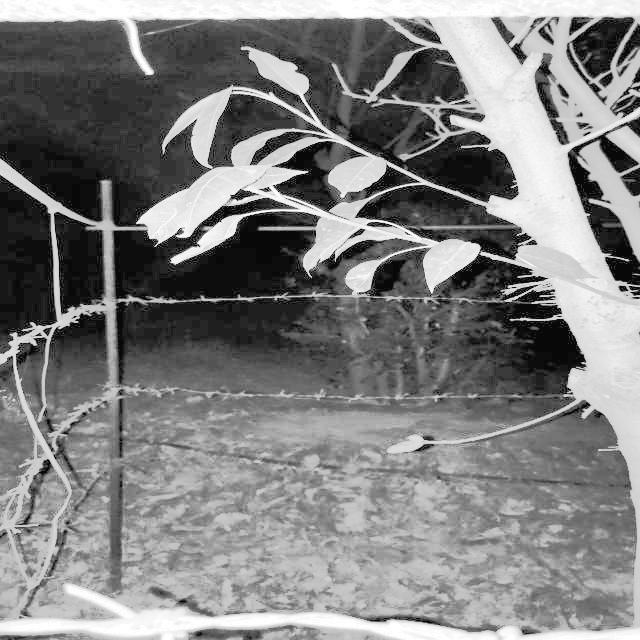Tree: (391, 20, 640, 506)
